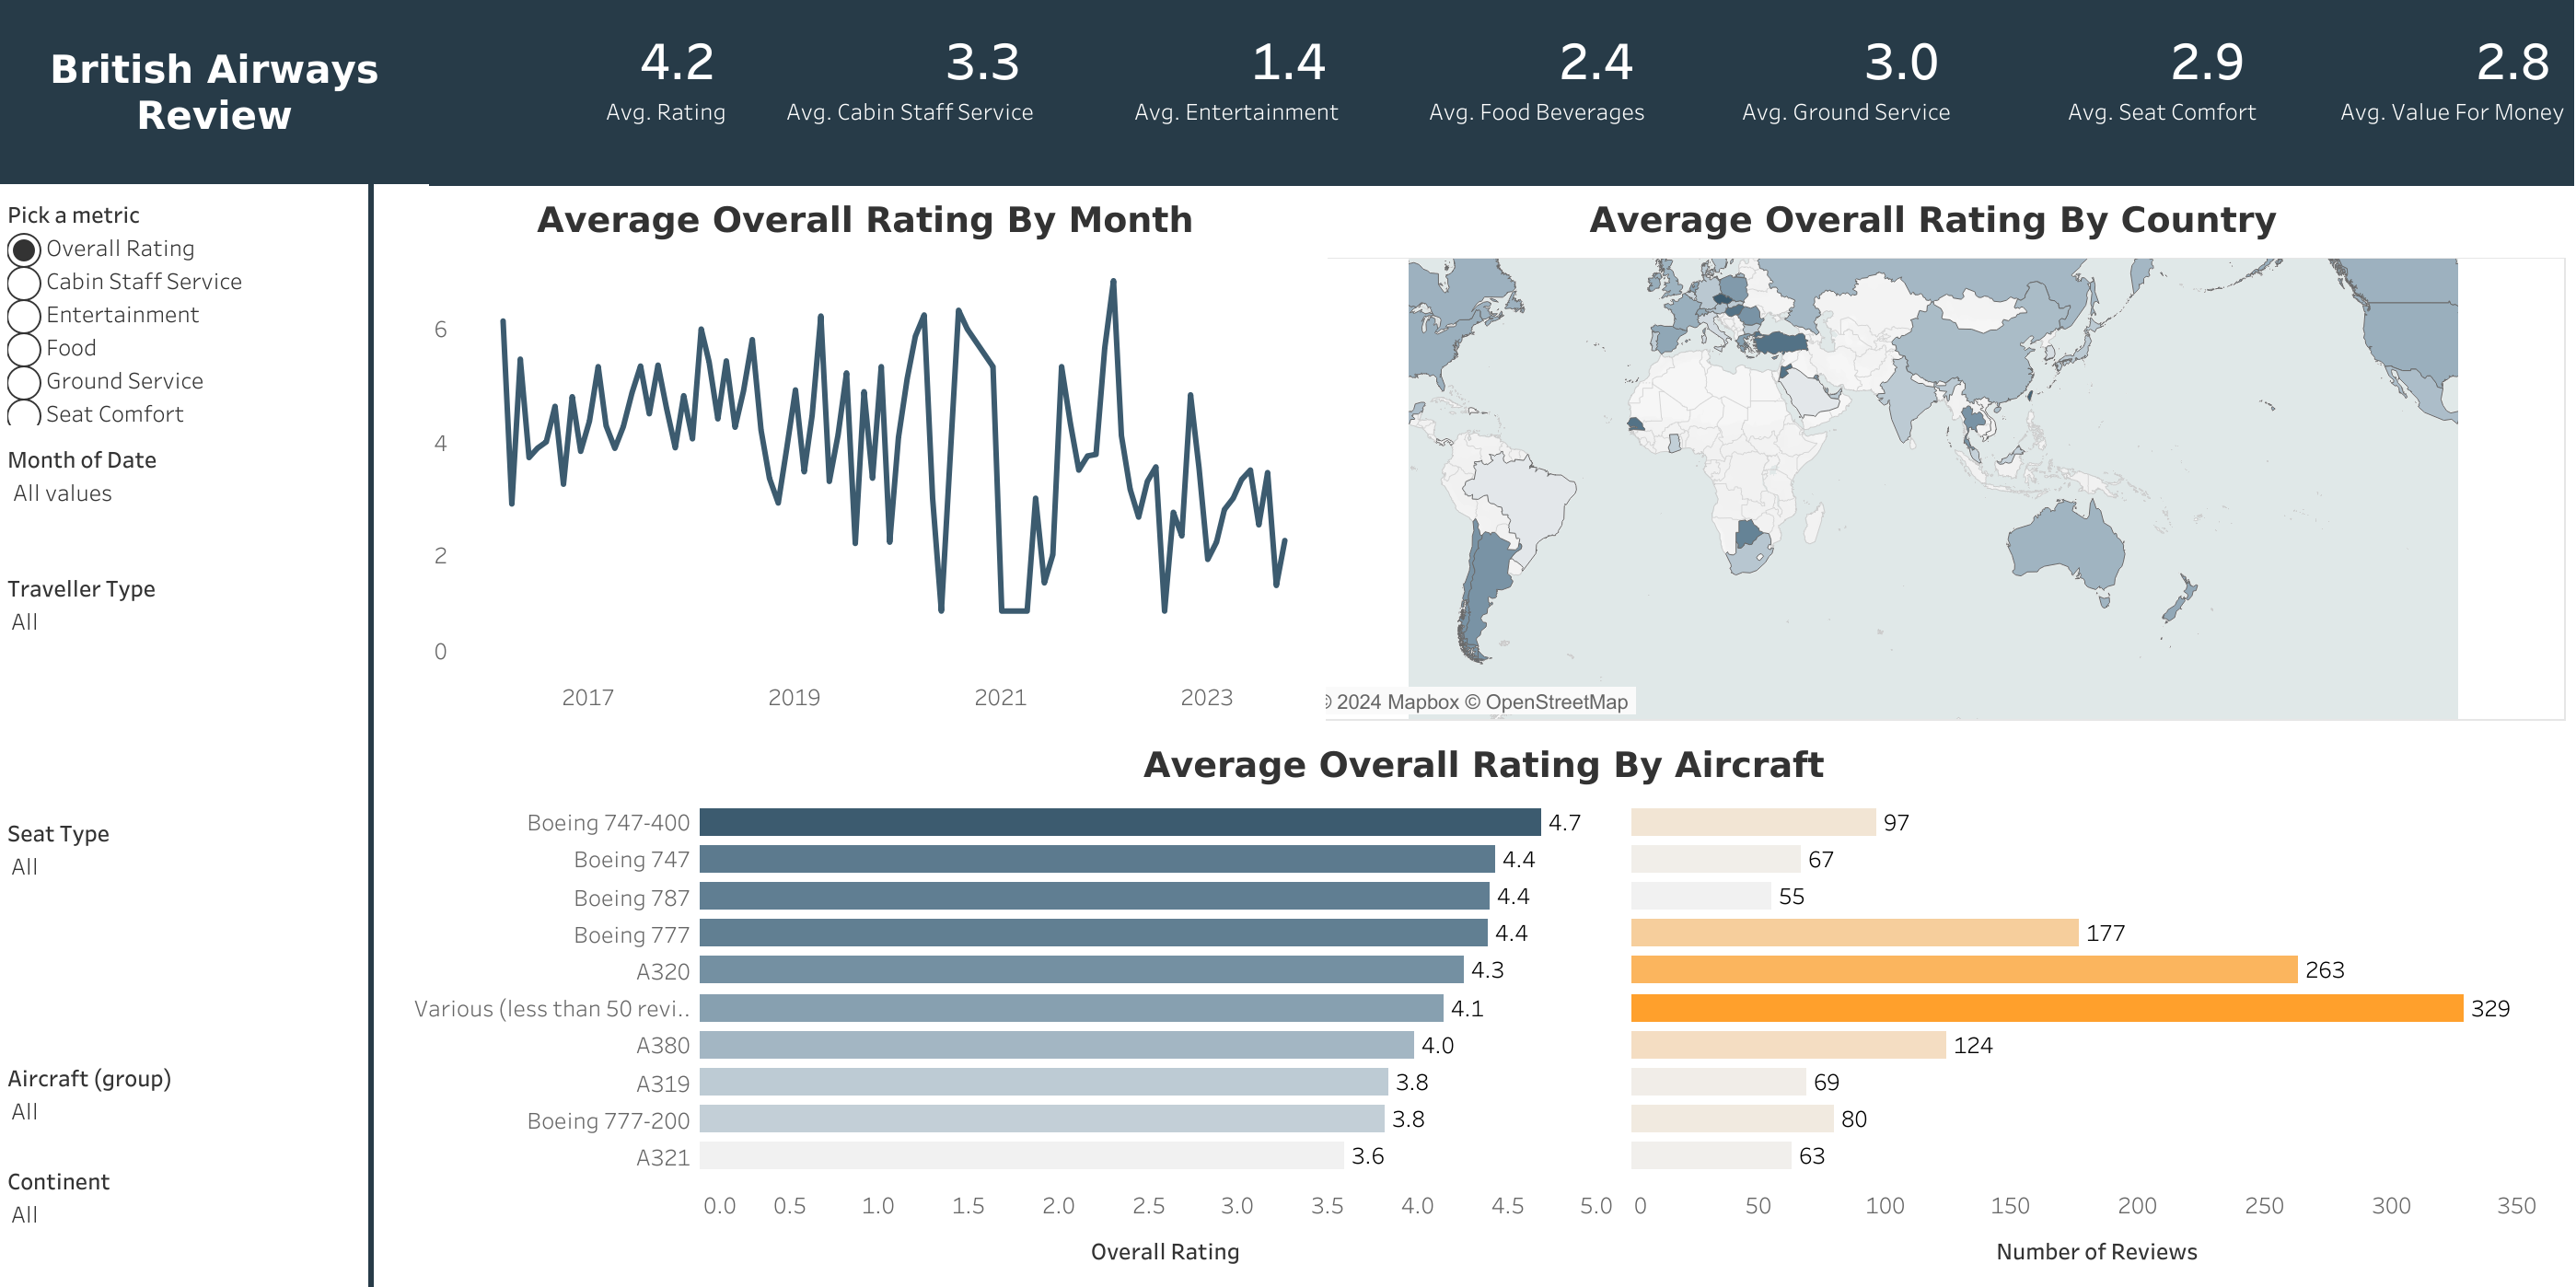

This screenshot's page, from the dashboard's own definition file:
{"tool":"tableau","page":{"name":"Dashboard 1","canvas":[1400,700],"ordinal":0},"visuals":[{"type":"text","box":[0,0,233.3,100]},{"type":"worksheet","title":"Summary","mark":"Automatic","box":[233.3,0,1163.2,100]},{"type":"blank","box":[200,100,3,600]},{"type":"parameter","param":"[Parameters].[Parameter 1]","box":[0,102,200,140.5]},{"type":"worksheet","title":"Month","mark":"Automatic","rows":["Calculation_1585548563532247043"],"cols":["date"],"box":[220,102,500,290]},{"type":"worksheet","title":"Map","mark":"Automatic","box":[707,102,687,290]},{"type":"filter","title":"Map","param":"[federated.0qdmt8m1m1yf6l17q2fot1k4l5v4].[tmn:date:qk]","box":[0,242.5,200,69]},{"type":"filter","title":"Map","param":"[federated.0qdmt8m1m1yf6l17q2fot1k4l5v4].[none:traveller_type:nk]","box":[0,311.5,200,140.5]},{"type":"worksheet","title":"Aircraft","mark":"Automatic","cols":["Calculation_1585548563532247043","ba_reviews.csv_F77BB02F4B34422B8D844F2DAA347EDF"],"box":[220,398,1172,297]},{"type":"filter","title":"Map","param":"[federated.0qdmt8m1m1yf6l17q2fot1k4l5v4].[none:seat_type:nk]","box":[0,452,200,127]},{"type":"filter","title":"Map","param":"[federated.0qdmt8m1m1yf6l17q2fot1k4l5v4].[Aircraft (group)]","box":[0,579,200,52]},{"type":"filter","title":"Map","param":"[federated.0qdmt8m1m1yf6l17q2fot1k4l5v4].[none:Continent:nk]","box":[0,631,200,52]}]}

Visuals, with their boxes in screenshot pixels (x1, y1, x2, y2), scaled from the page's 1400x700 canvas onto the 2576x1287 screenshot:
text: <bbox>0, 0, 429, 184</bbox>
"Summary" worksheet: <bbox>429, 0, 2570, 184</bbox>
blank: <bbox>368, 184, 374, 1286</bbox>
parameter: <bbox>0, 188, 368, 446</bbox>
"Month" worksheet: <bbox>405, 188, 1325, 721</bbox>
"Map" worksheet: <bbox>1301, 188, 2565, 721</bbox>
"Map" filter: <bbox>0, 446, 368, 573</bbox>
"Map" filter: <bbox>0, 573, 368, 831</bbox>
"Aircraft" worksheet: <bbox>405, 732, 2561, 1278</bbox>
"Map" filter: <bbox>0, 831, 368, 1064</bbox>
"Map" filter: <bbox>0, 1064, 368, 1160</bbox>
"Map" filter: <bbox>0, 1160, 368, 1256</bbox>
